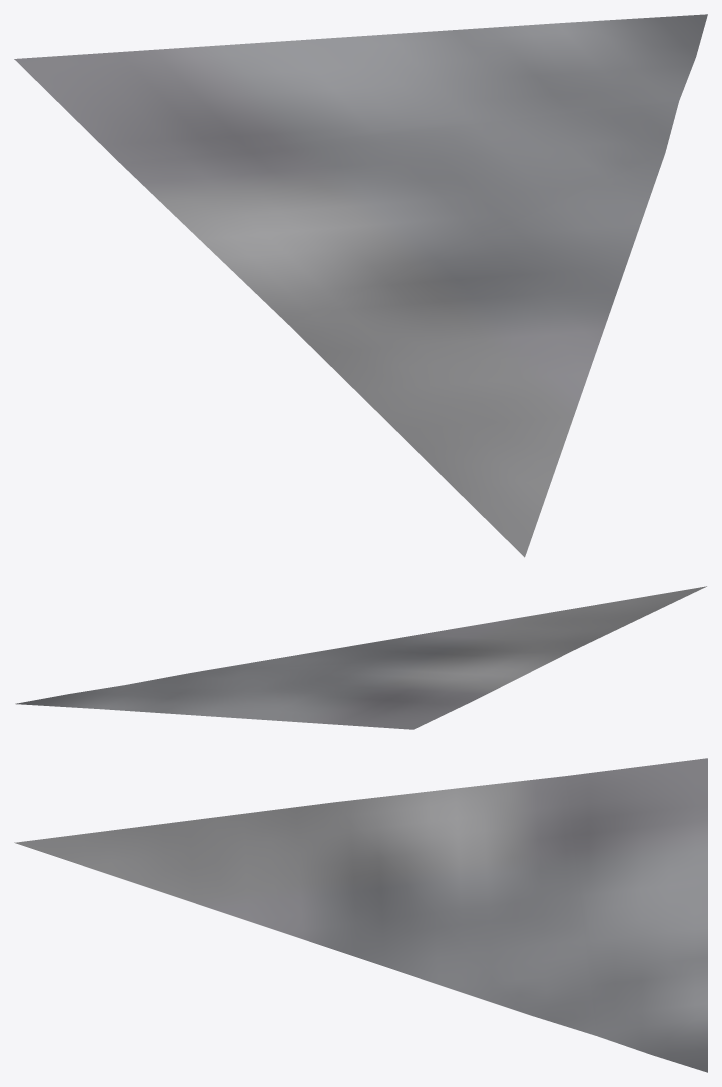
3 views of the same model, one above another, from view 1: azimuth 30°, elevation 25°; view 2: azimuth 150°, elevation 25°; view 3: azimuth 270°, elevation 25° (orthographic). The views are drawn at different scales.
Size of the model in its own units: 0.1312 by 0.0225 by 0.1673.
1 material, 1 textured.
